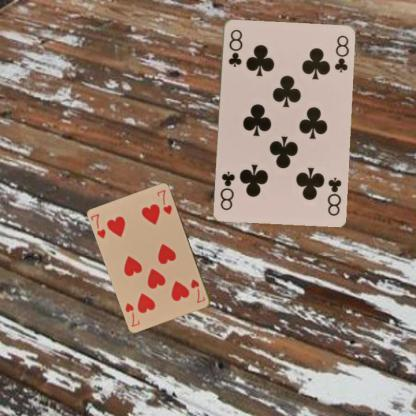7h: (88, 211, 107, 240), (188, 276, 207, 304)
8c: (324, 174, 343, 216), (226, 26, 244, 68)
